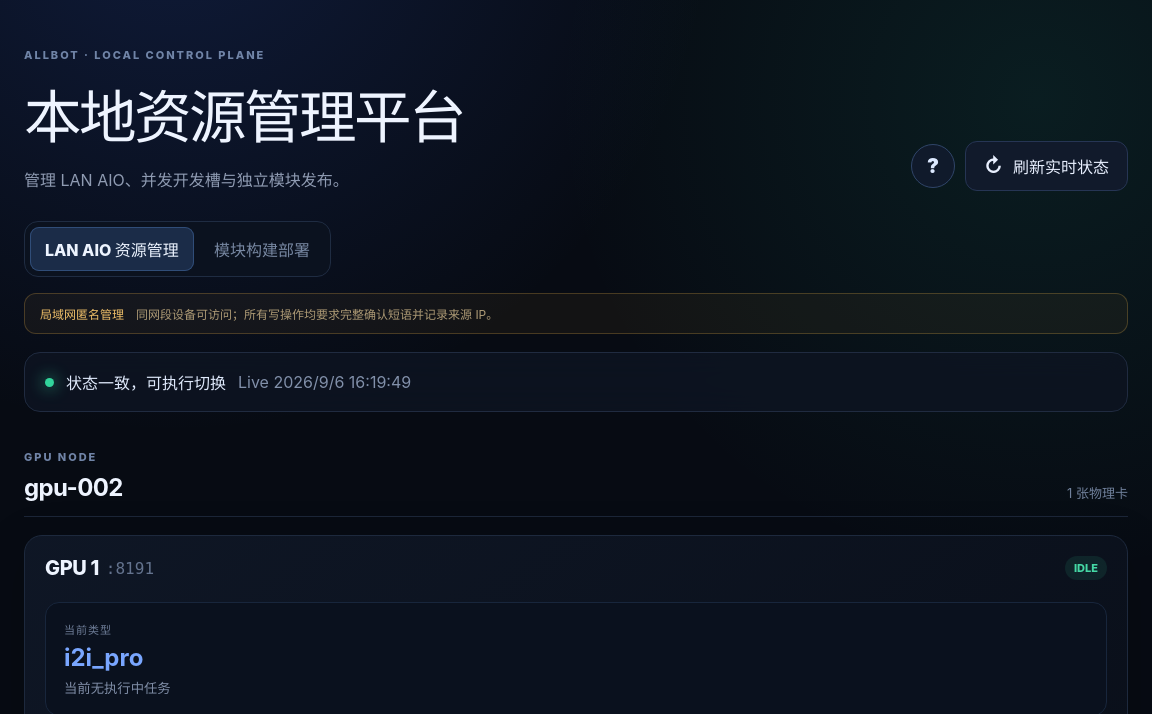
Test: module release control › scans all slots and exposes selected integration and alignment
Click the button "模块构建部署": point(262, 249) top-left (199, 227), bottom-right (325, 271)
(page scrolled)
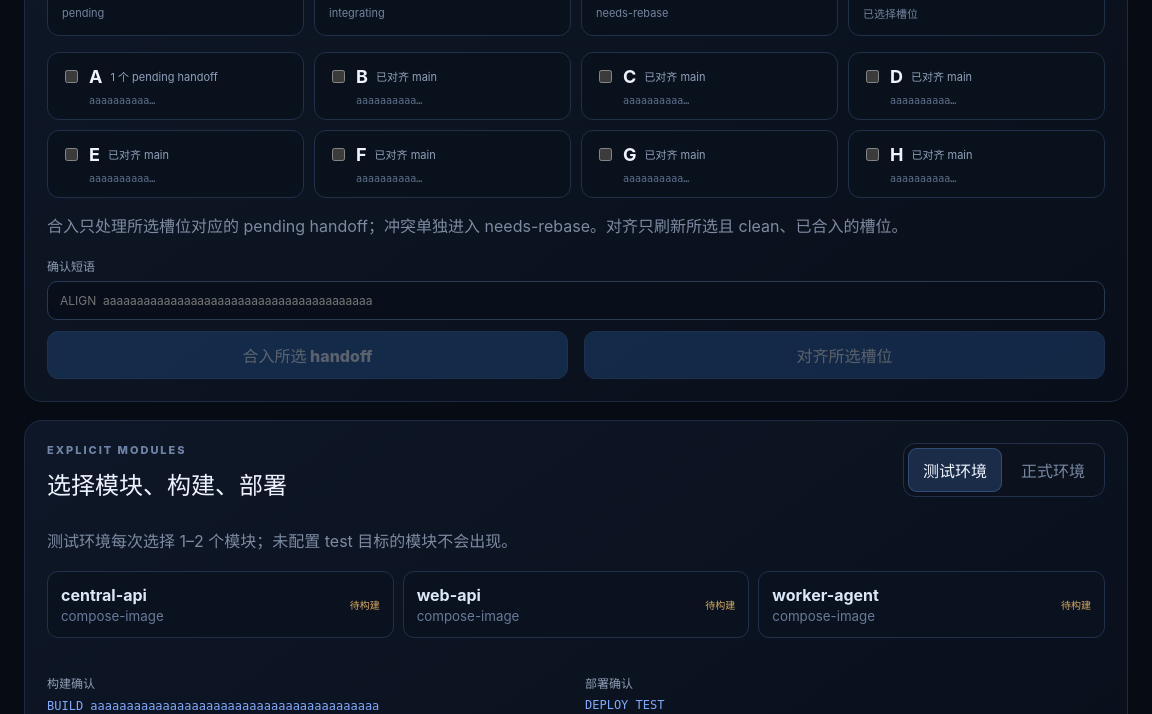
Now the number of labels with class "workspace-option" is 8
Now the text "pending handoff" is shown, box top-left (110, 70), bottom-right (218, 84)
Now the text "needs-rebase" is shown, box top-left (596, 6), bottom-right (668, 20)
